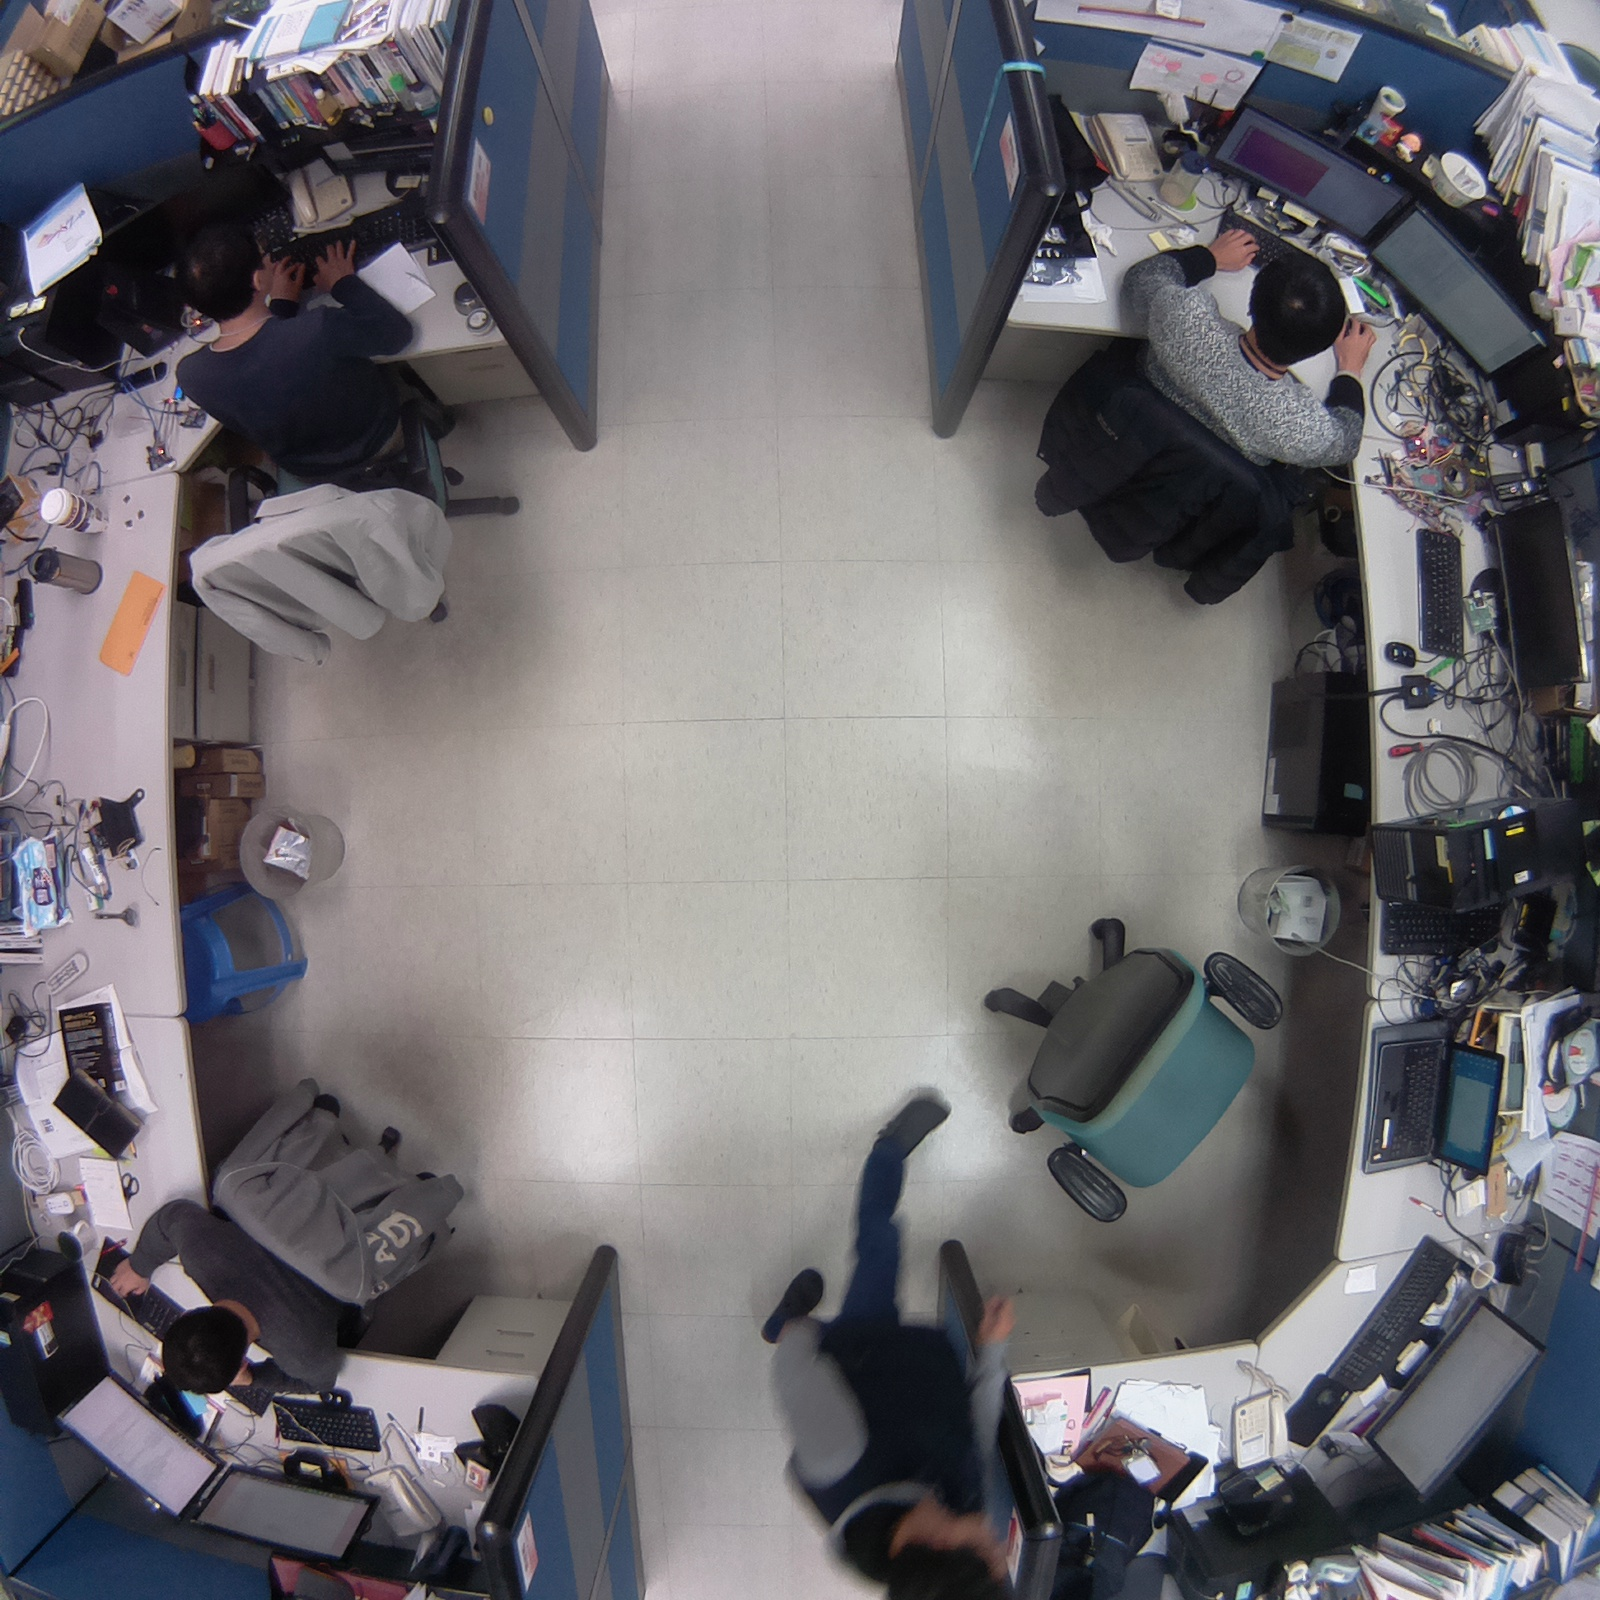chair: (966, 901, 1300, 1240)
sitting: (160, 217, 532, 686), (1023, 217, 1389, 620), (92, 1061, 484, 1420)
walking: (755, 1077, 1033, 1600)
